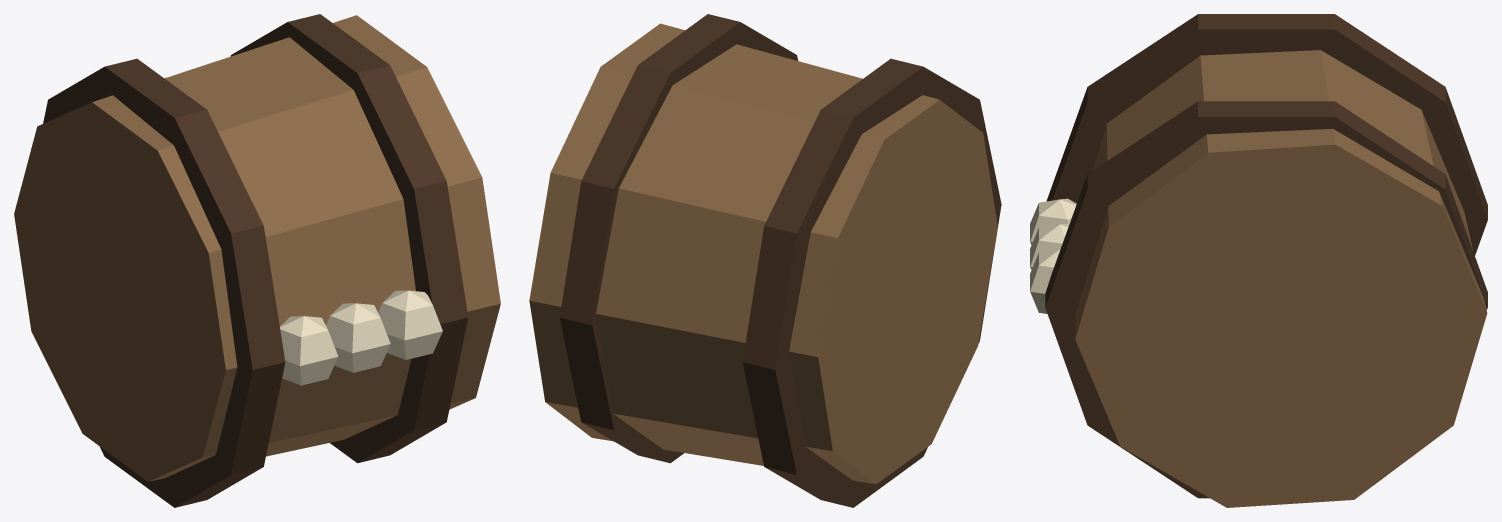
File: stonebrow_shaman_bracer_r.glb
3 views of the same model, side by side, from view 1: azimuth 30°, elevation 25°; view 2: azimuth 150°, elevation 25°; view 3: azimuth 270°, elevation 25° (orthographic). The views are drawn at different scales.
Parts seen in each view (by area): view 1: stonebrow_shaman_bracer_r; view 2: stonebrow_shaman_bracer_r; view 3: stonebrow_shaman_bracer_r.
Part boxes in pixels (<box>): stonebrow_shaman_bracer_r: <box>14,14,500,507</box>; stonebrow_shaman_bracer_r: <box>529,14,1001,507</box>; stonebrow_shaman_bracer_r: <box>1030,14,1487,507</box>.
Size of the model in its own units: 0.2228 by 0.2853 by 0.3102.
